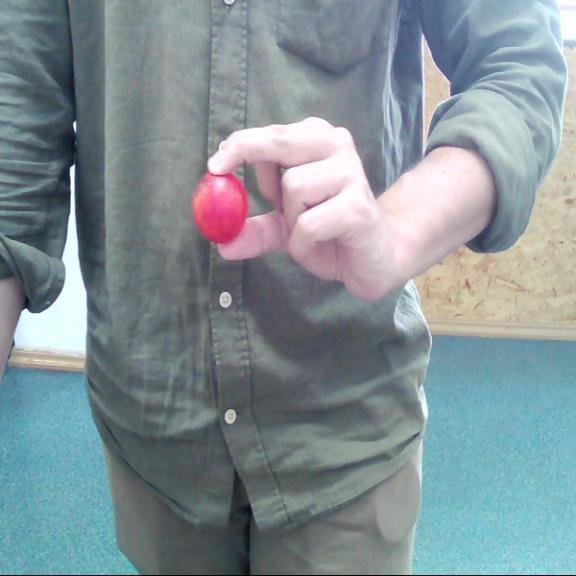ball: (194, 172, 250, 242)
